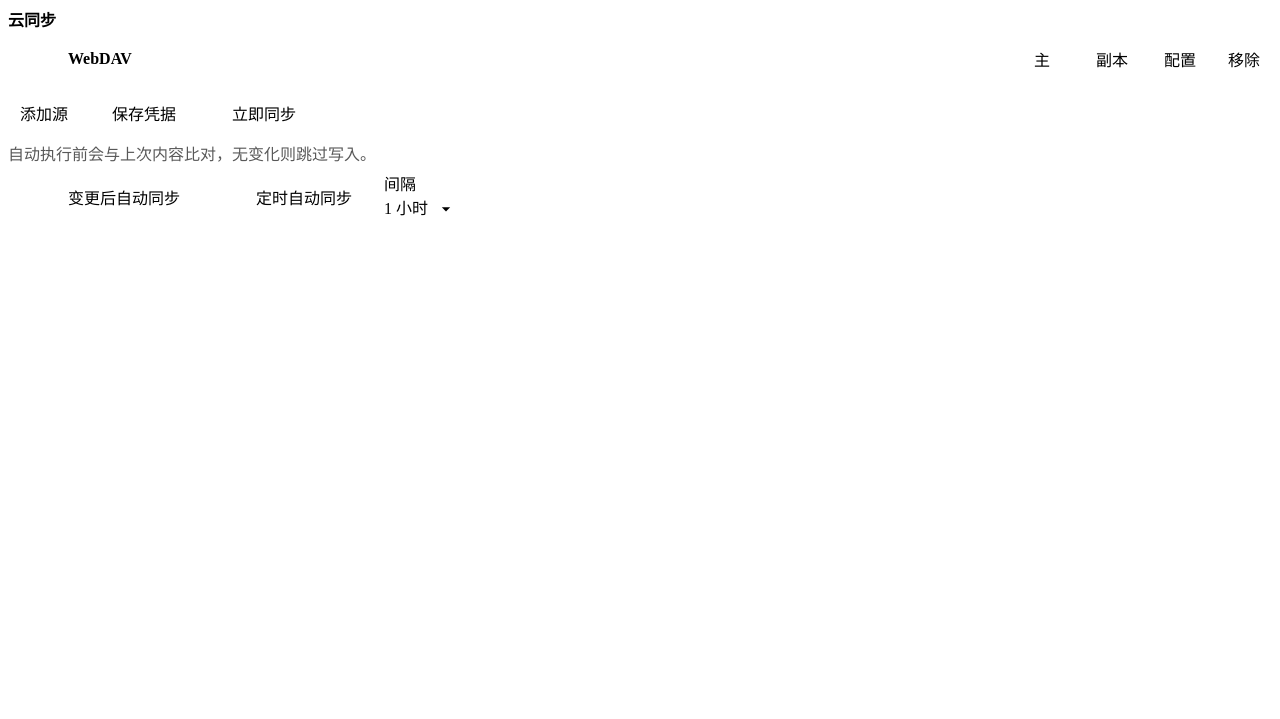
Test: CloudCard（多源） › ⑭b添加源按钮 aria-haspopup=menu 且 aria-expanded 随开关翻转（批 6 a11y）
Click the button with class "target-add".
click(44, 113)  # box top-left (8, 93), bottom-right (80, 133)
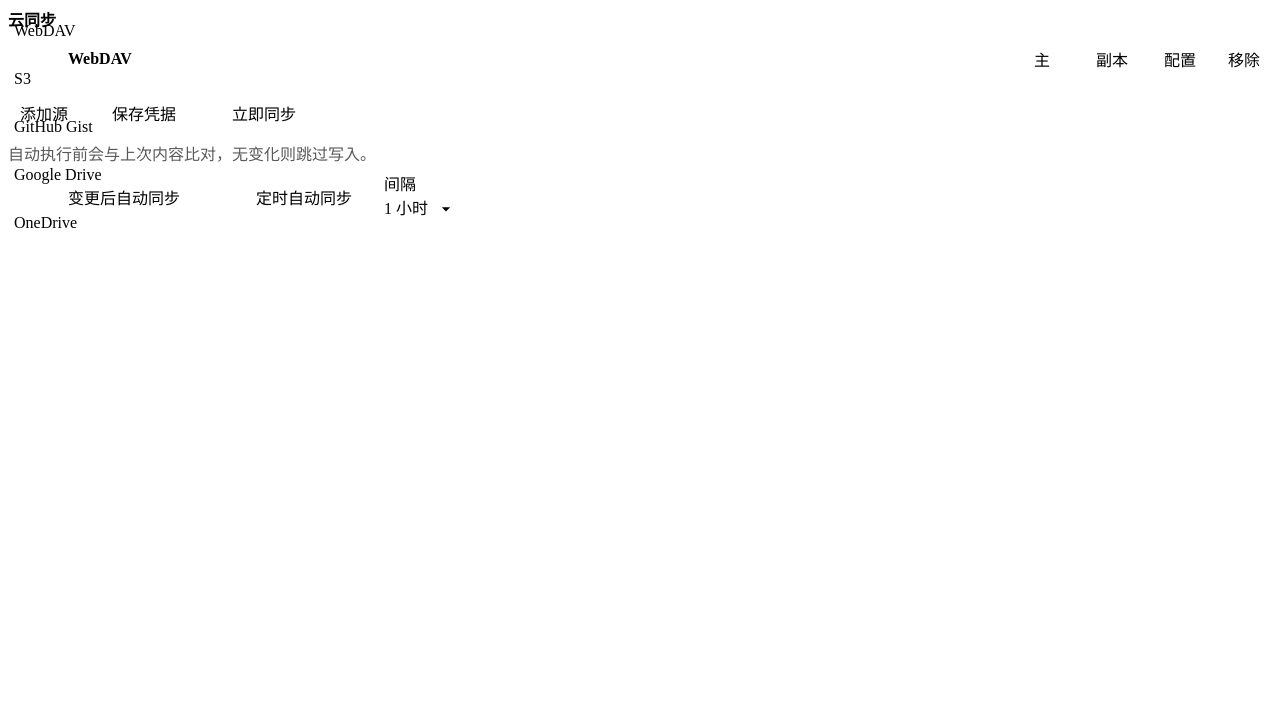
Check: the button with class "target-add" is expanded, box top-left (8, 93), bottom-right (80, 133)
# 点选收起后翻回 false
Click the menu item "S3".
click(58, 79)  # box top-left (0, 55), bottom-right (116, 103)
(page scrolled)
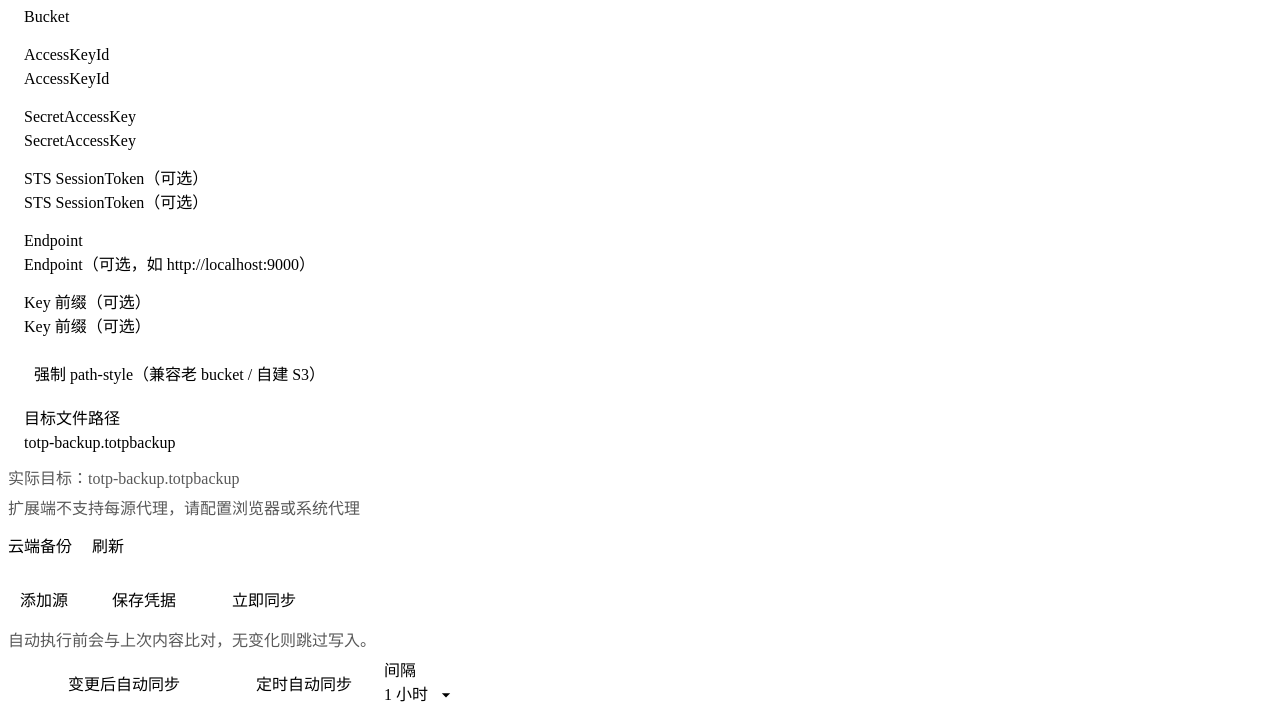
Check: the button with class "target-add" is collapsed, box top-left (8, 579), bottom-right (80, 619)
